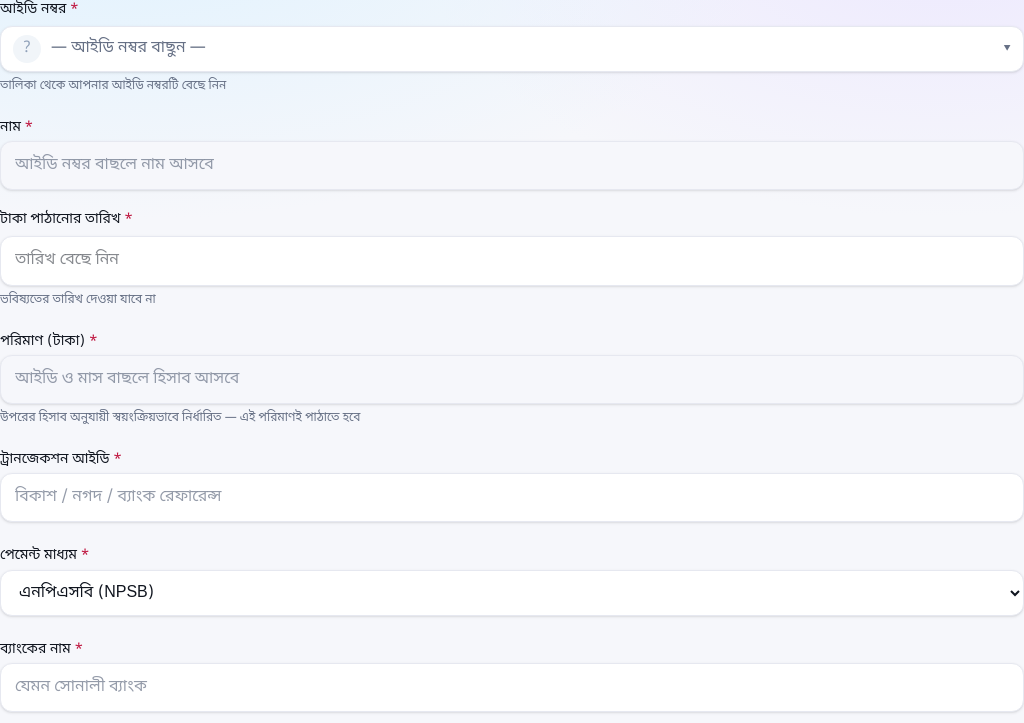
Test: public submission form — ID selector › swaps the photo when a different ID is picked
Step 1. Click the dropdown labelled "? — আইডি নম্বর বাছুন — ▾" → (128, 48), box [0,26,1023,72]
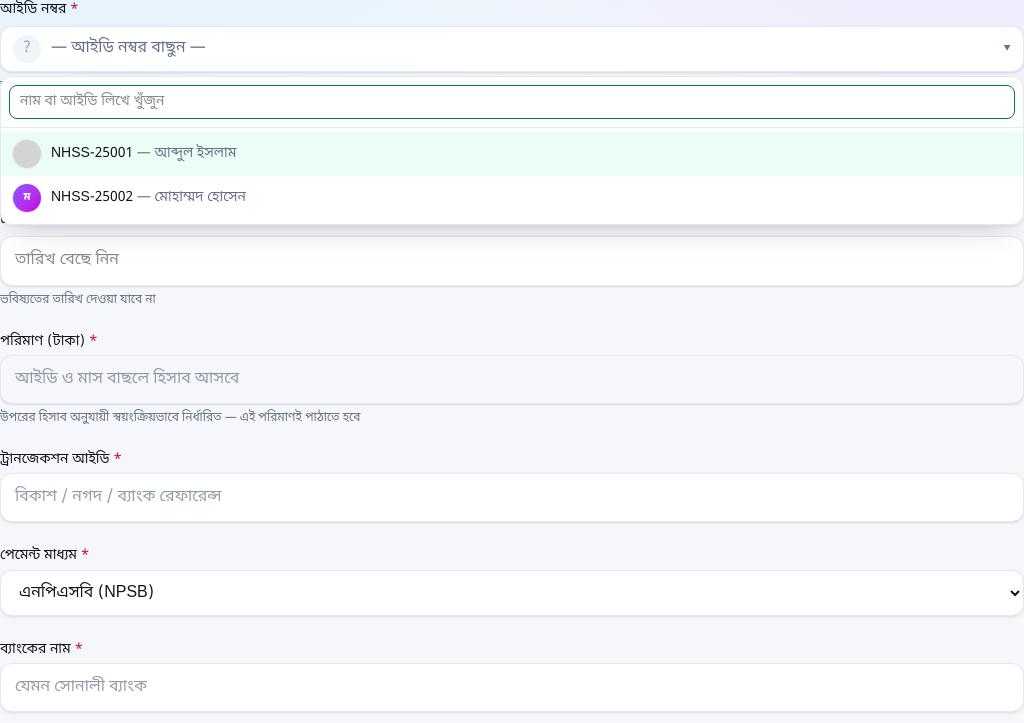
Step 2. Click the option "NHSS-25001 — আব্দুল ইসলাম" → (92, 154), box [1,132,1023,176]
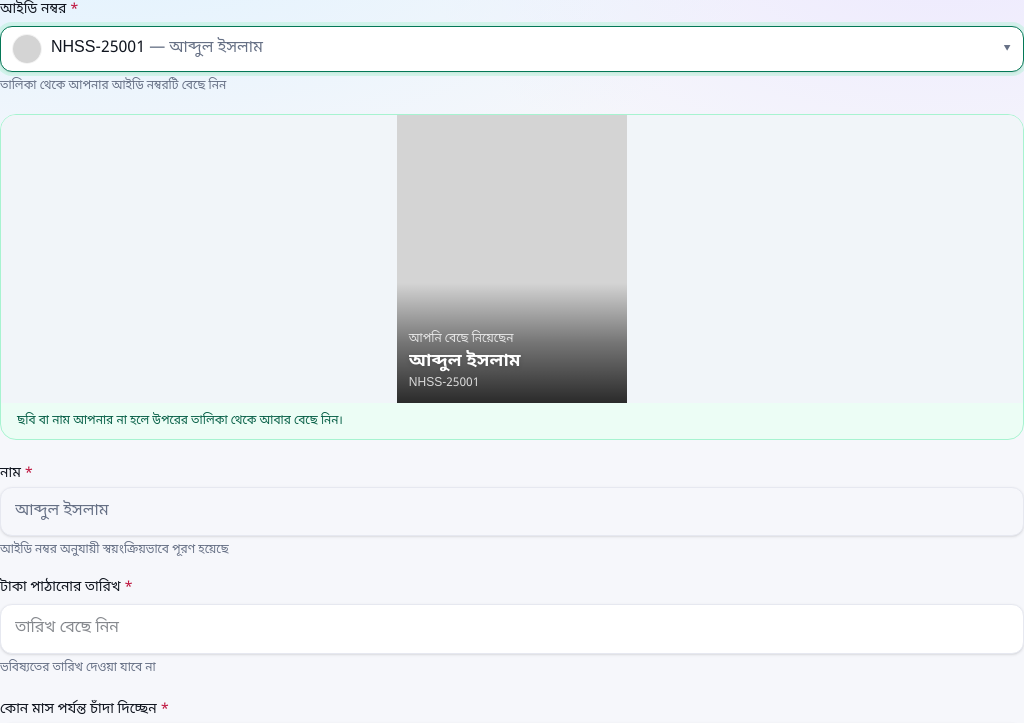
expect the text "NHSS-25001" below "আপনি বেছে নিয়েছেন" is shown: met, box [409,375,479,391]
Step 3. Click the dropdown named "আইডি নম্বর" → (98, 48), box [0,26,1023,72]
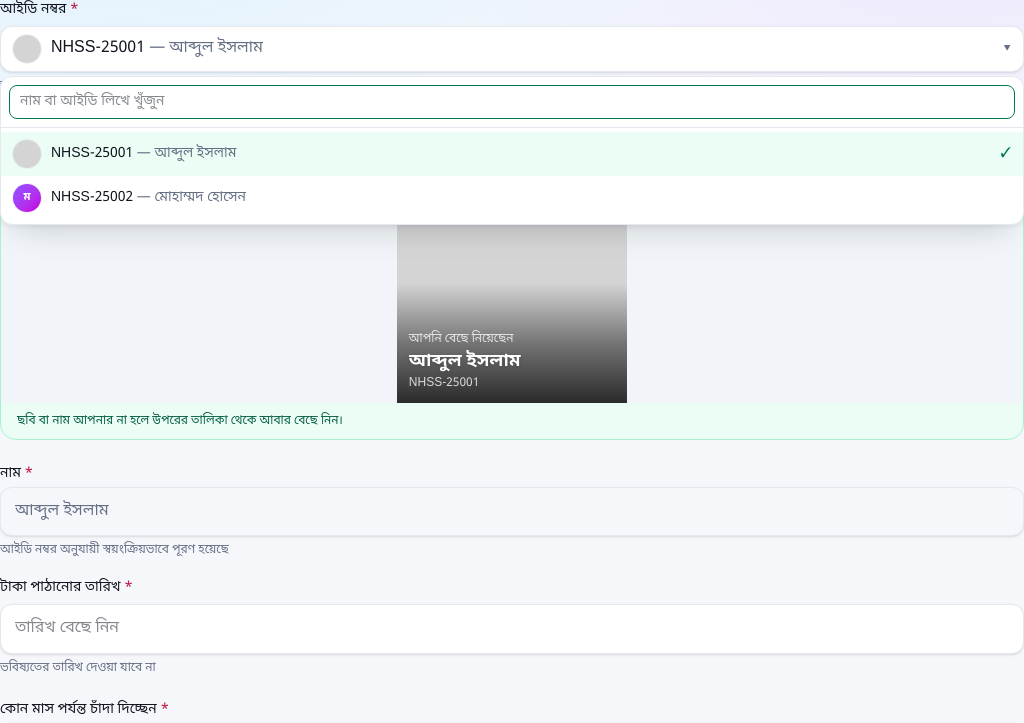
Step 4. Click the option "ম NHSS-25002 — মোহাম্মদ হোসেন" → (130, 198), box [13,184,246,212]
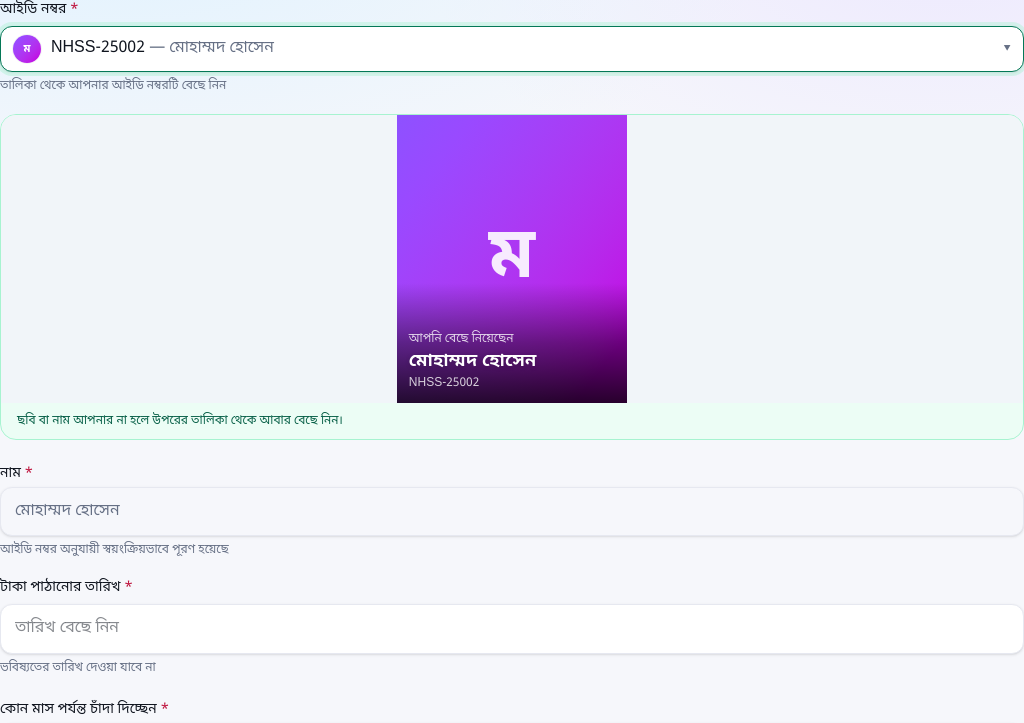
expect the text "NHSS-25002" below "আপনি বেছে নিয়েছেন" is shown: met, box [409,375,479,391]
expect the dropdown "NHSS-25001" is gone: met
